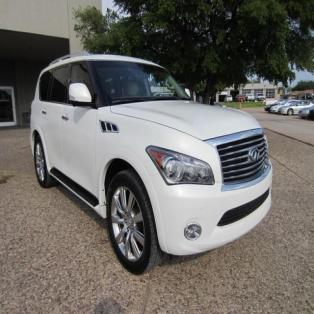Auto: (30, 52, 273, 274)
